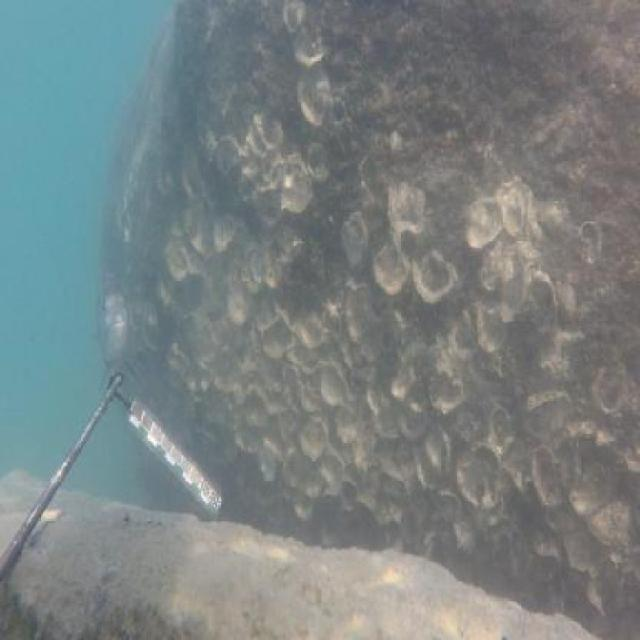acanthopagrus_palmaris: (94, 278, 138, 380)
